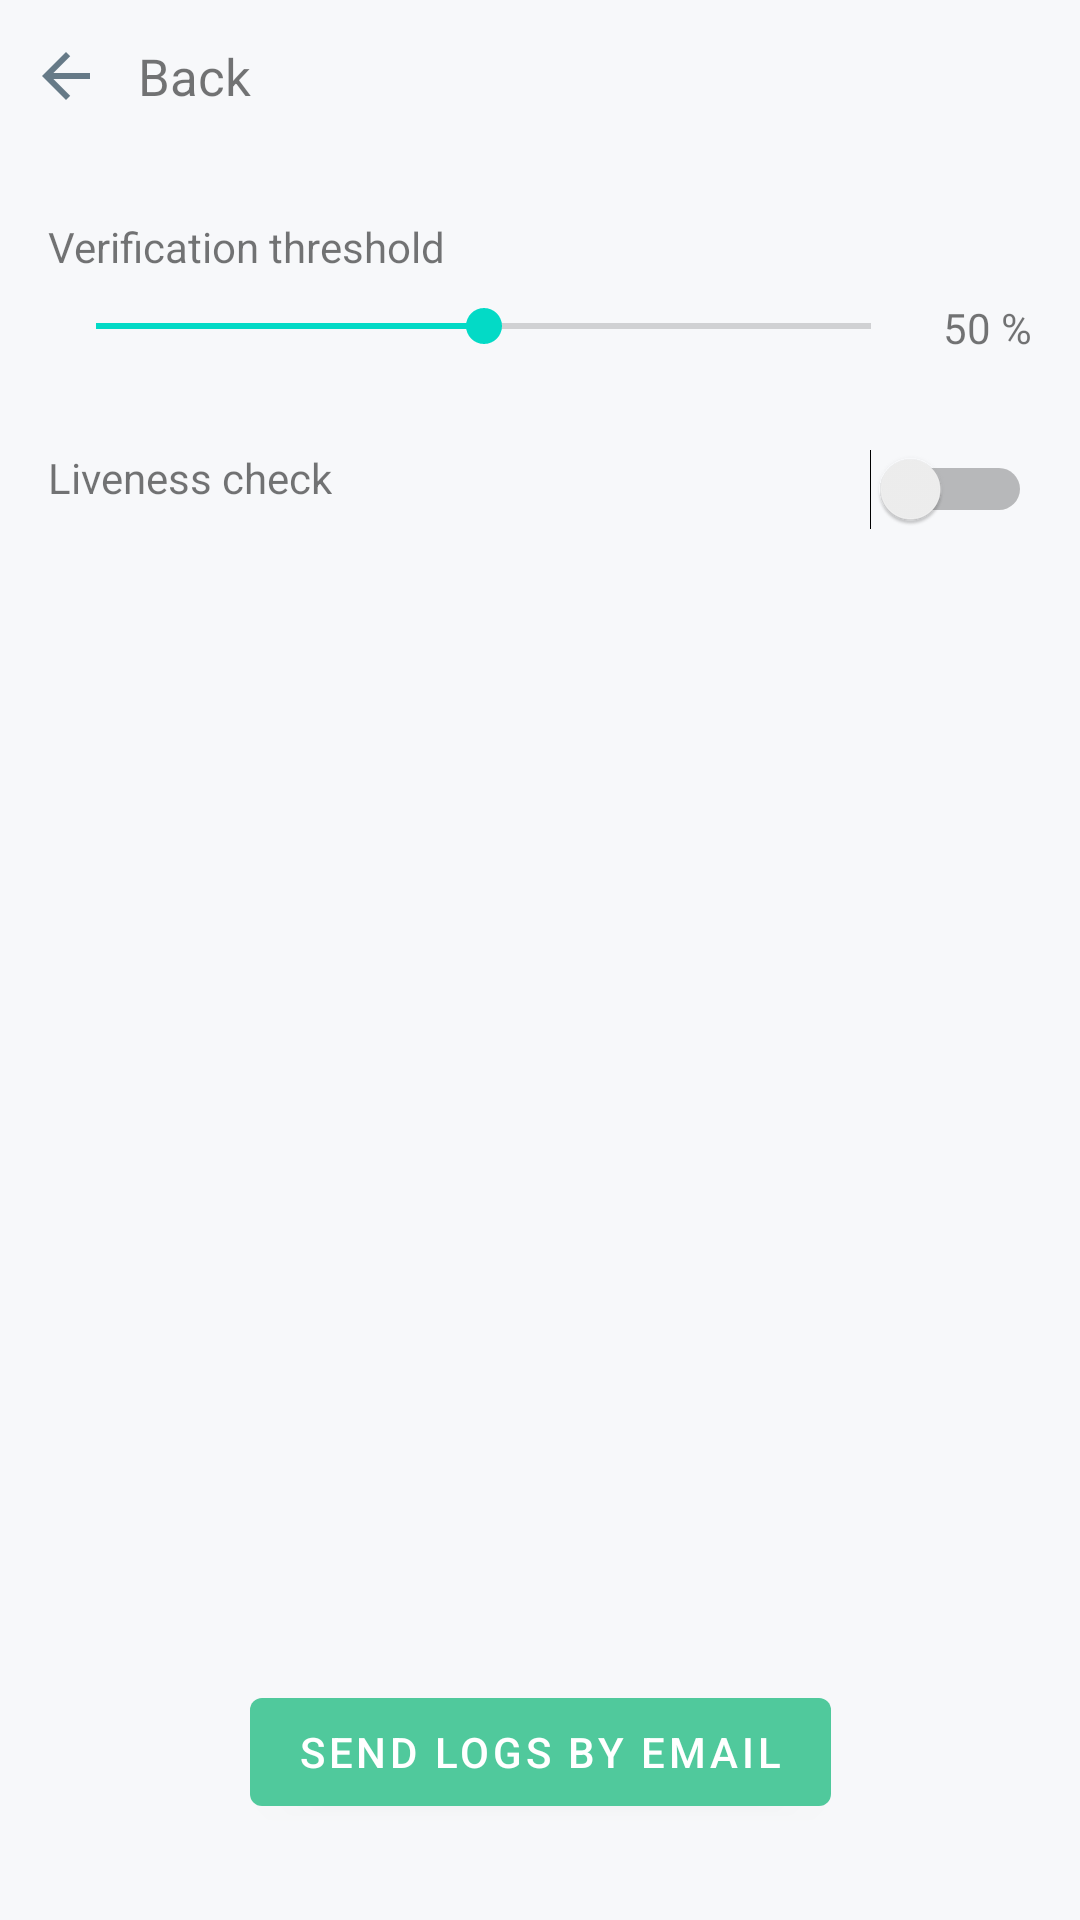

Icons on this 1080 × 1920 Android screen, each with the point to tap as point (x, y):
arrow: point (66, 76)
